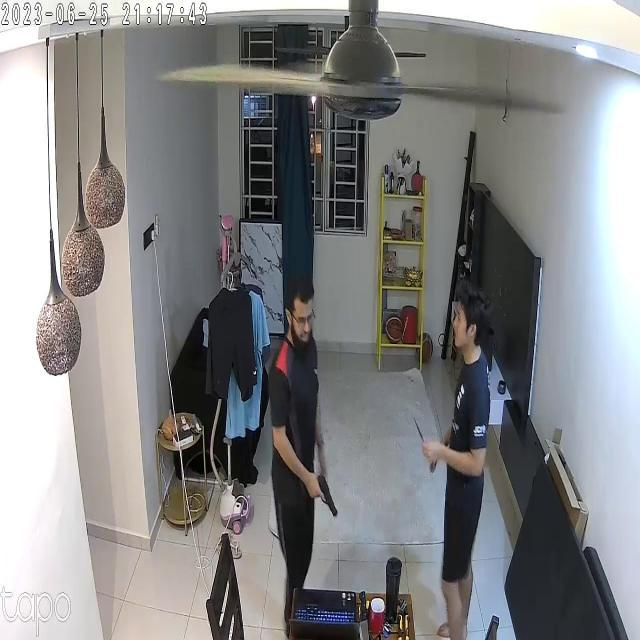Gun: (306, 459, 346, 523)
